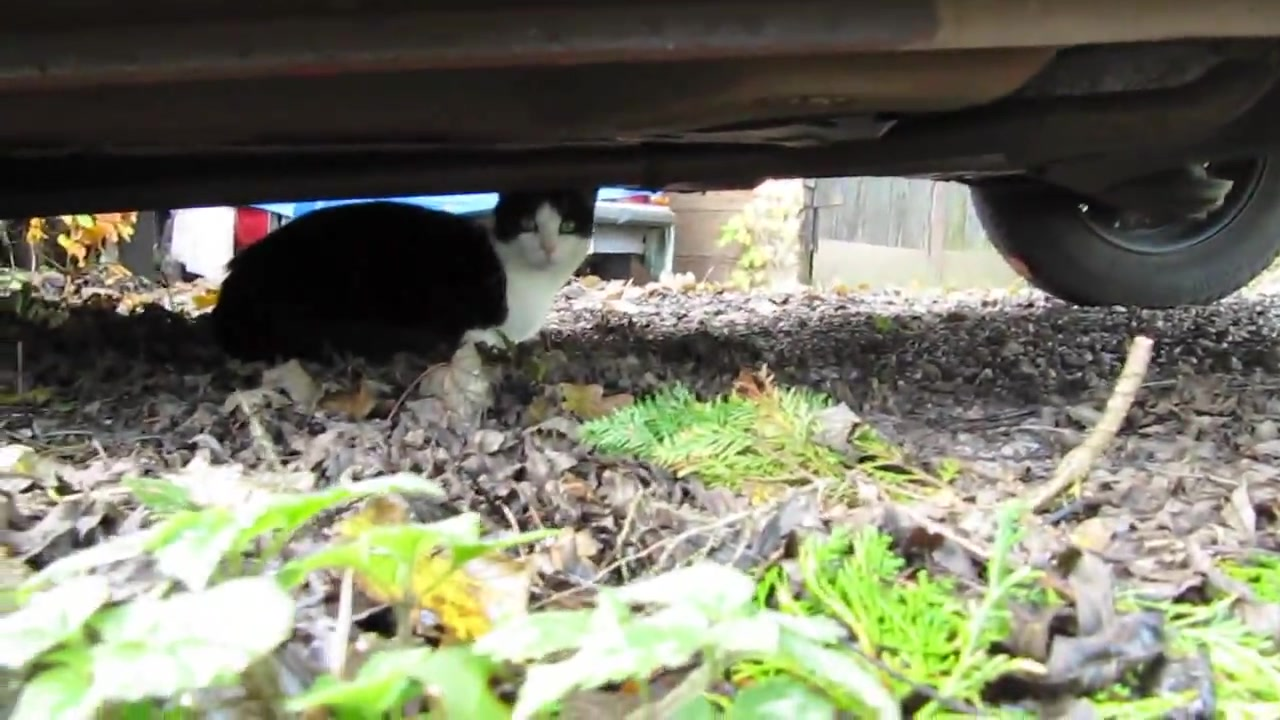cat: (205, 179, 604, 383)
